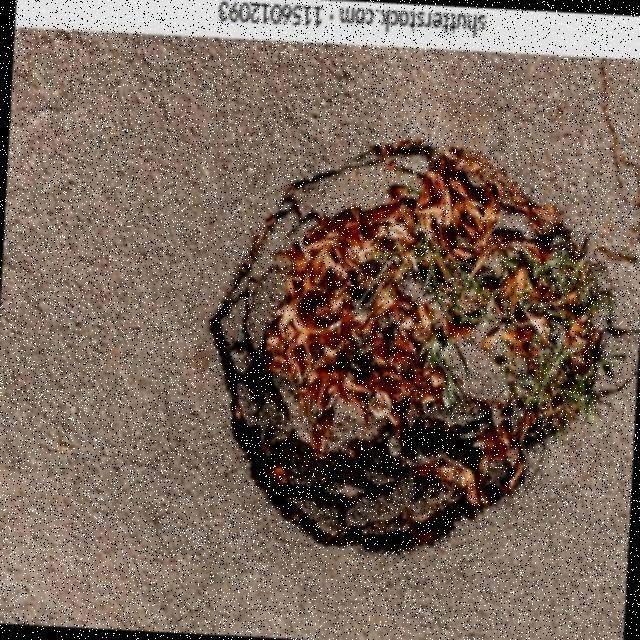Pothole: (209, 141, 612, 553)
